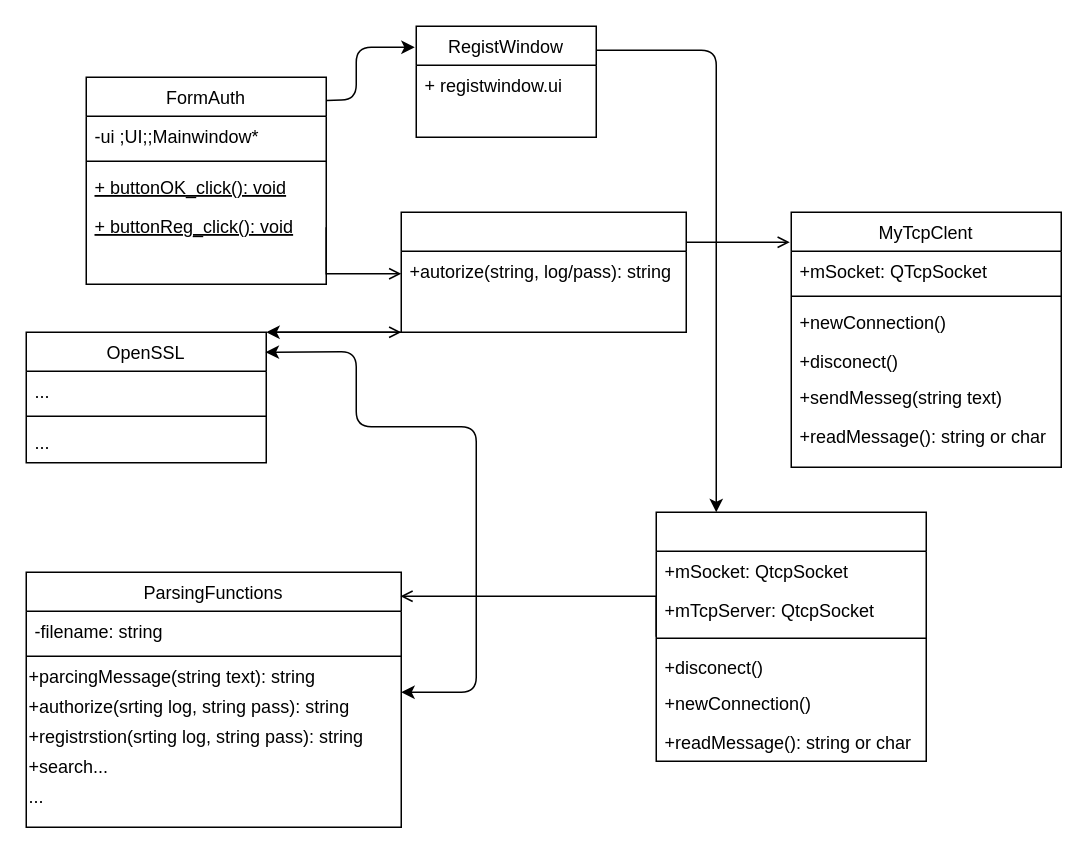
Image size: 1088x854. Some labels were removed from this diagram. Each missing label, with the box of its shape:
ClassBackEndForm: (400, 211, 686, 332)
MyTcpServer: (655, 511, 926, 761)
